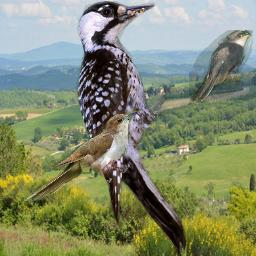Cuckoo: (23, 110, 138, 201), (189, 30, 253, 105)
Woodpecker: (75, 1, 186, 256)
